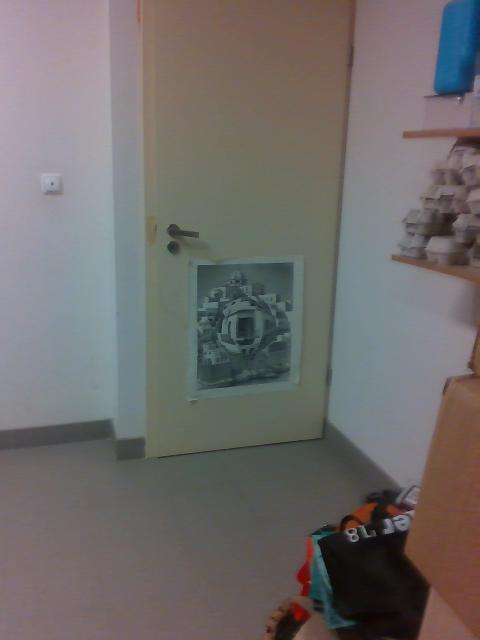door: (137, 3, 356, 459)
